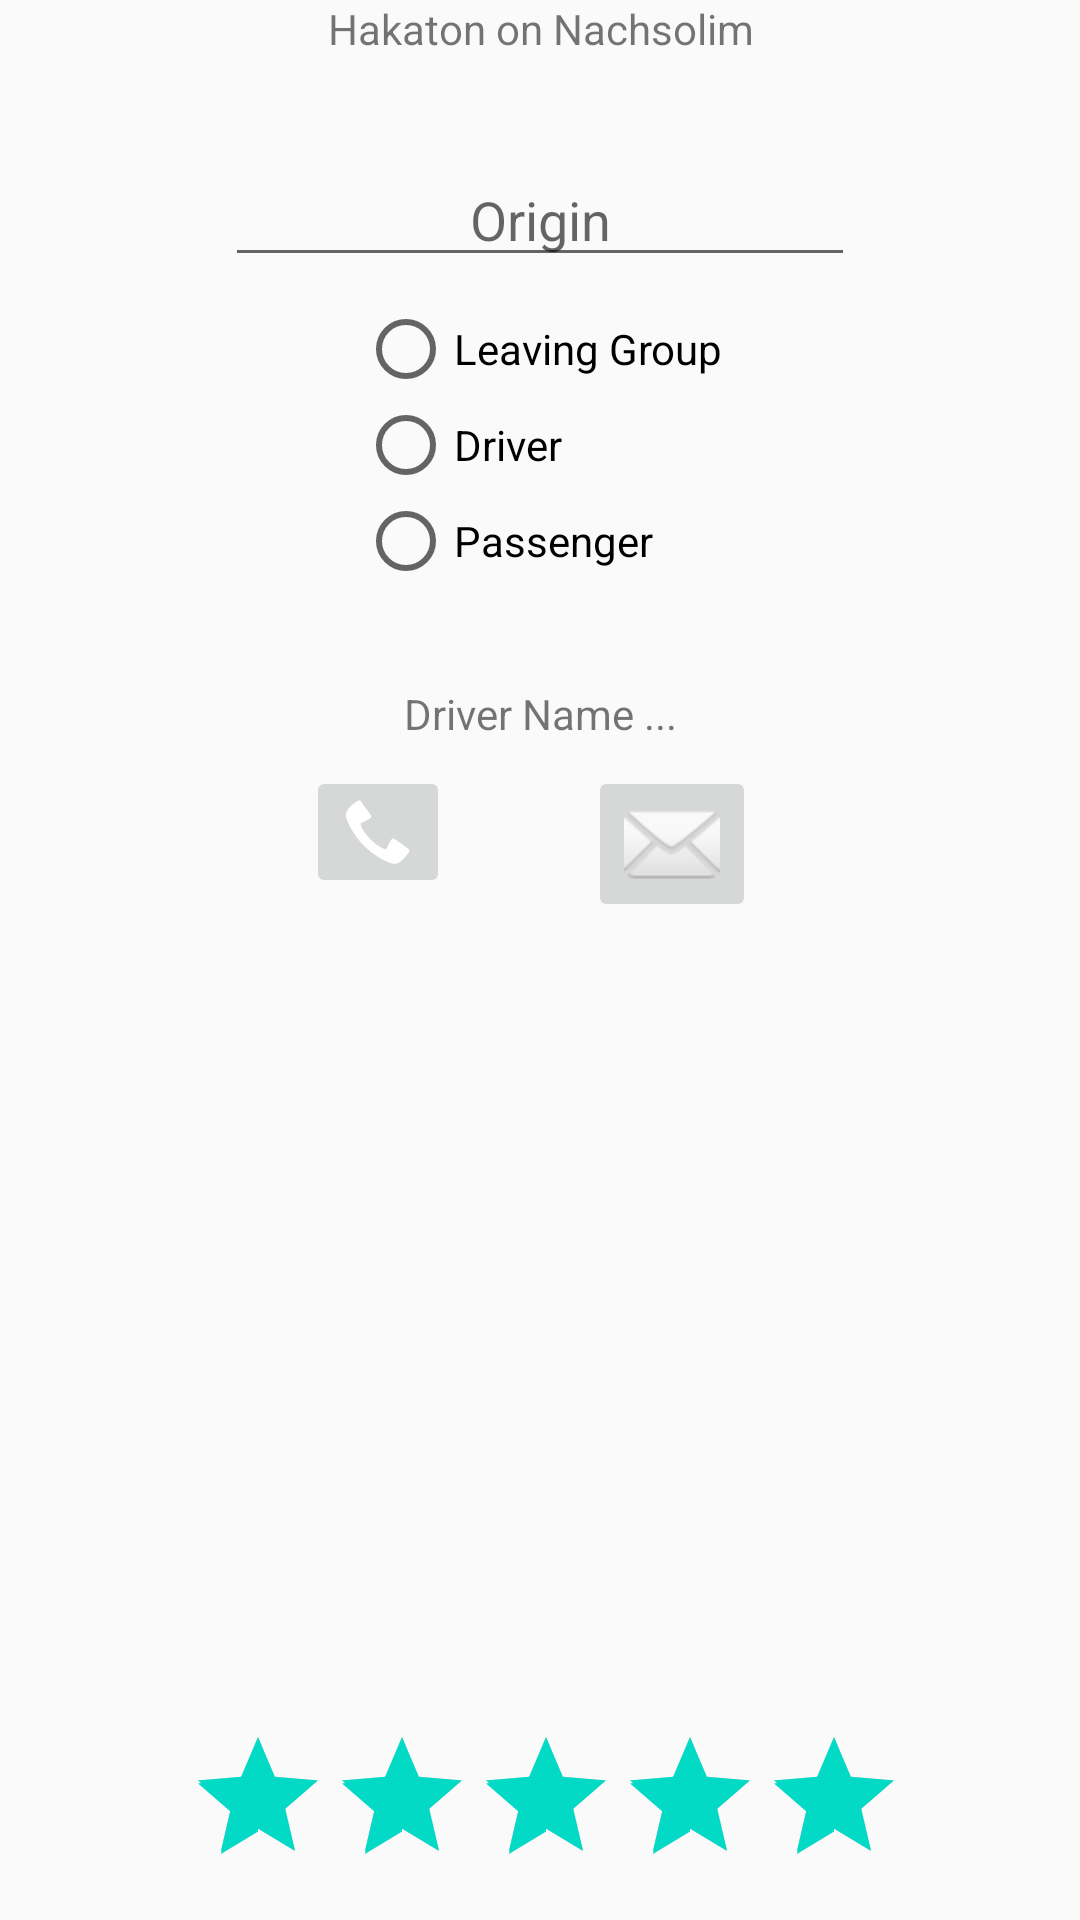

Named icons in this screenshot (1080 x 1920) and their bounding boxes, (x1, y1, x2, y2):
email: (600, 784, 744, 904)
phone call: (318, 784, 438, 880)
